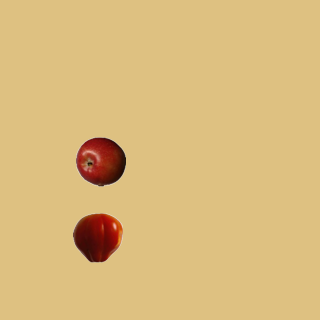Apple Braeburn: (75, 136, 125, 186)
Tomato 1: (72, 212, 122, 262)
